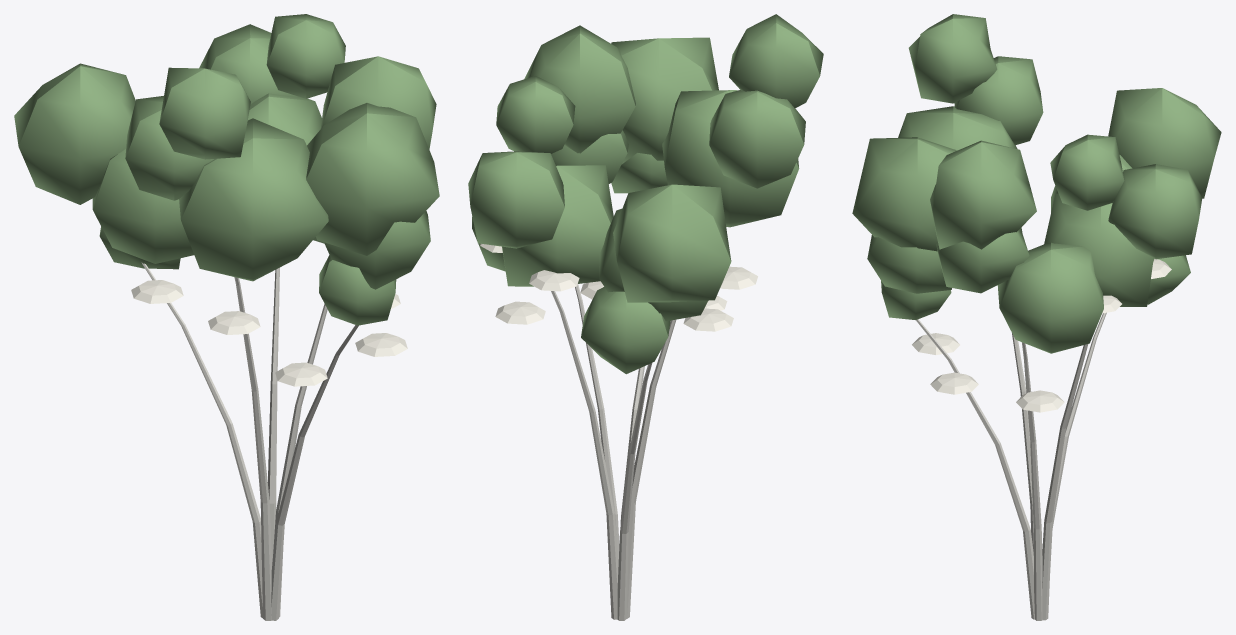
The model's file is elder-bush.glb.
3 views of the same model, side by side, from view 1: azimuth 30°, elevation 25°; view 2: azimuth 150°, elevation 25°; view 3: azimuth 270°, elevation 25° (orthographic). The views are drawn at different scales.
Parts seen in each view (by area): view 1: elder-bush; view 2: elder-bush; view 3: elder-bush.
Part boxes in pixels (x1,y1,x2,y2): elder-bush: [14, 14, 439, 620]; elder-bush: [468, 14, 823, 620]; elder-bush: [852, 14, 1221, 620].
Size of the model in its own units: 2.39 by 4.21 by 2.57.
